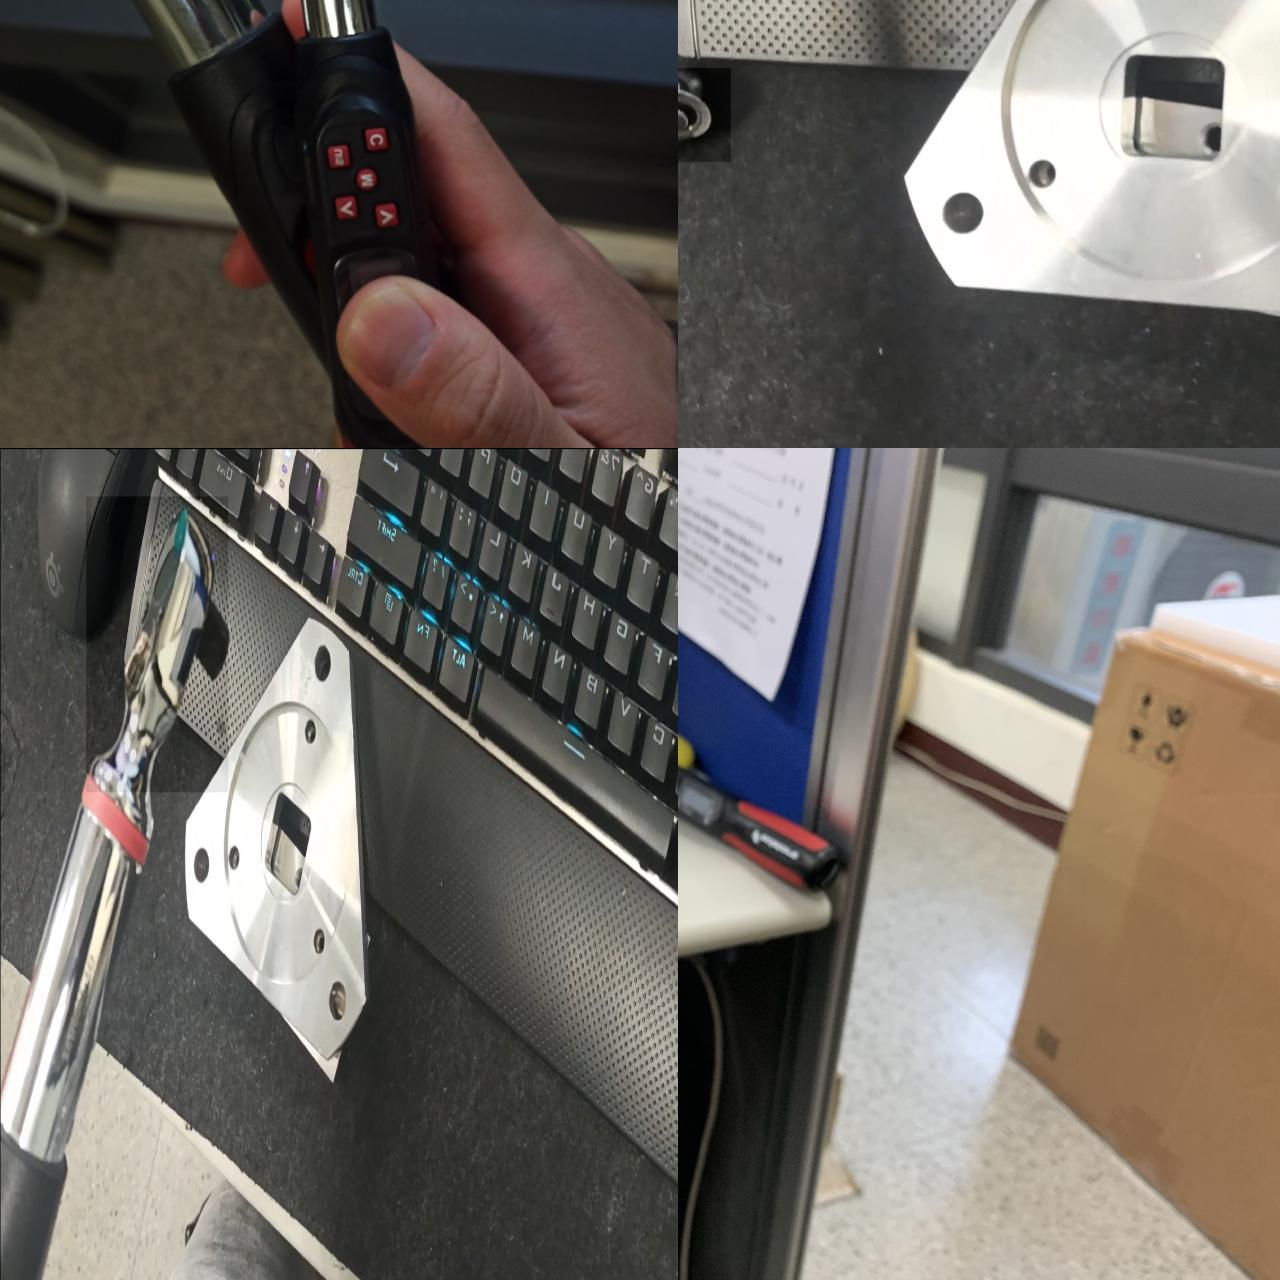Tool: (86, 496, 228, 791), (678, 67, 730, 161)
hole: (930, 184, 991, 254), (182, 839, 219, 893), (303, 646, 344, 689), (1027, 148, 1056, 196), (327, 982, 351, 1028), (300, 712, 325, 752), (306, 923, 326, 960), (228, 845, 239, 874)
